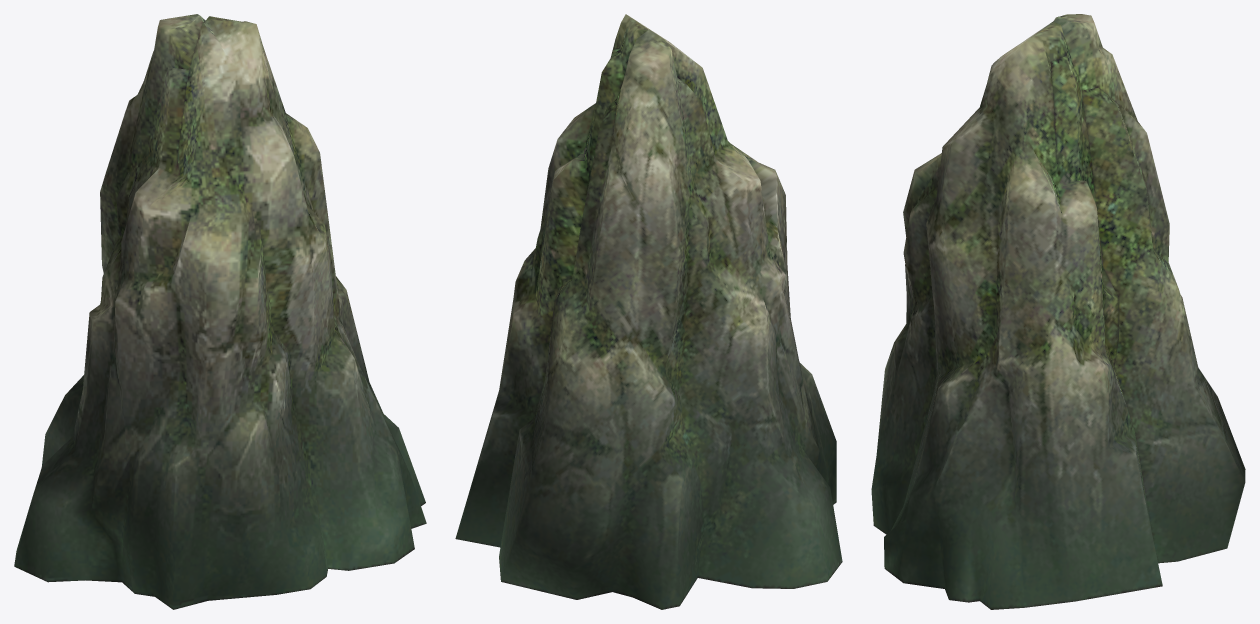
File: otherworld_02_stone_02.glb
3 renders of one model, left to right at view 1: azimuth 30°, elevation 25°; view 2: azimuth 150°, elevation 25°; view 3: azimuth 270°, elevation 25°, orthographic.
Visible parts, largest first — view 1: otherworld_02_stone_02; view 2: otherworld_02_stone_02; view 3: otherworld_02_stone_02.
Part boxes in pixels (bbox=[...]): otherworld_02_stone_02: bbox=[14, 14, 426, 609]; otherworld_02_stone_02: bbox=[455, 14, 842, 609]; otherworld_02_stone_02: bbox=[871, 14, 1245, 609].
Bounding box in the file's own units: 6.25 × 8.12 × 5.49.
1 material, 1 textured.
